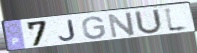7: (25, 20, 49, 48)
G: (82, 16, 107, 40)
J: (57, 19, 77, 42)
L: (163, 6, 192, 34)
N: (107, 11, 137, 40)
U: (133, 8, 164, 36)
